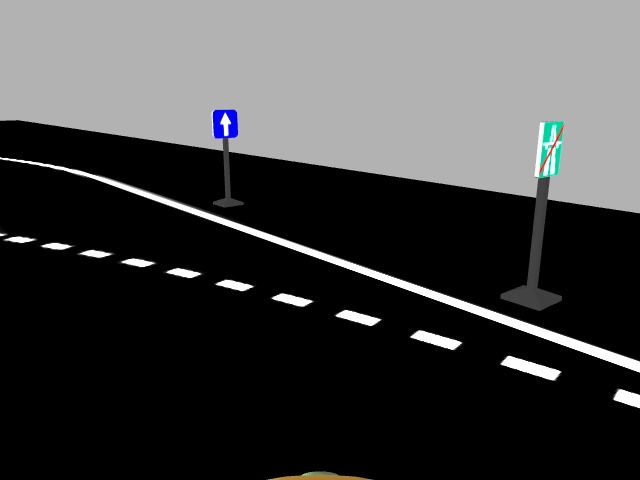HighwayExit: (531, 114, 568, 180)
OneWay: (208, 108, 239, 138)
